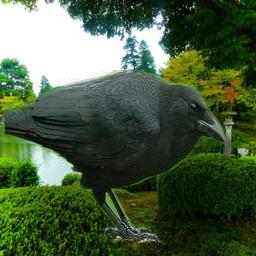Crow: (4, 71, 227, 246)
